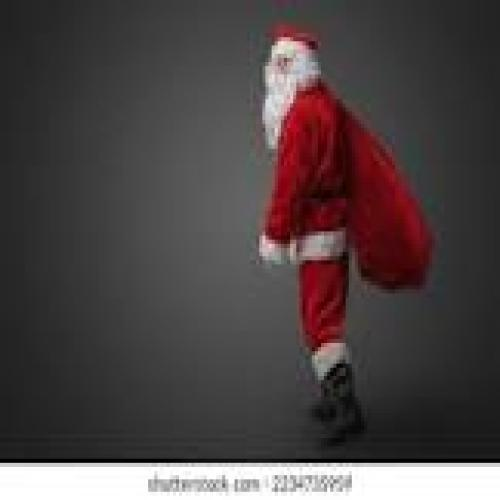Santa: (252, 10, 438, 456)
